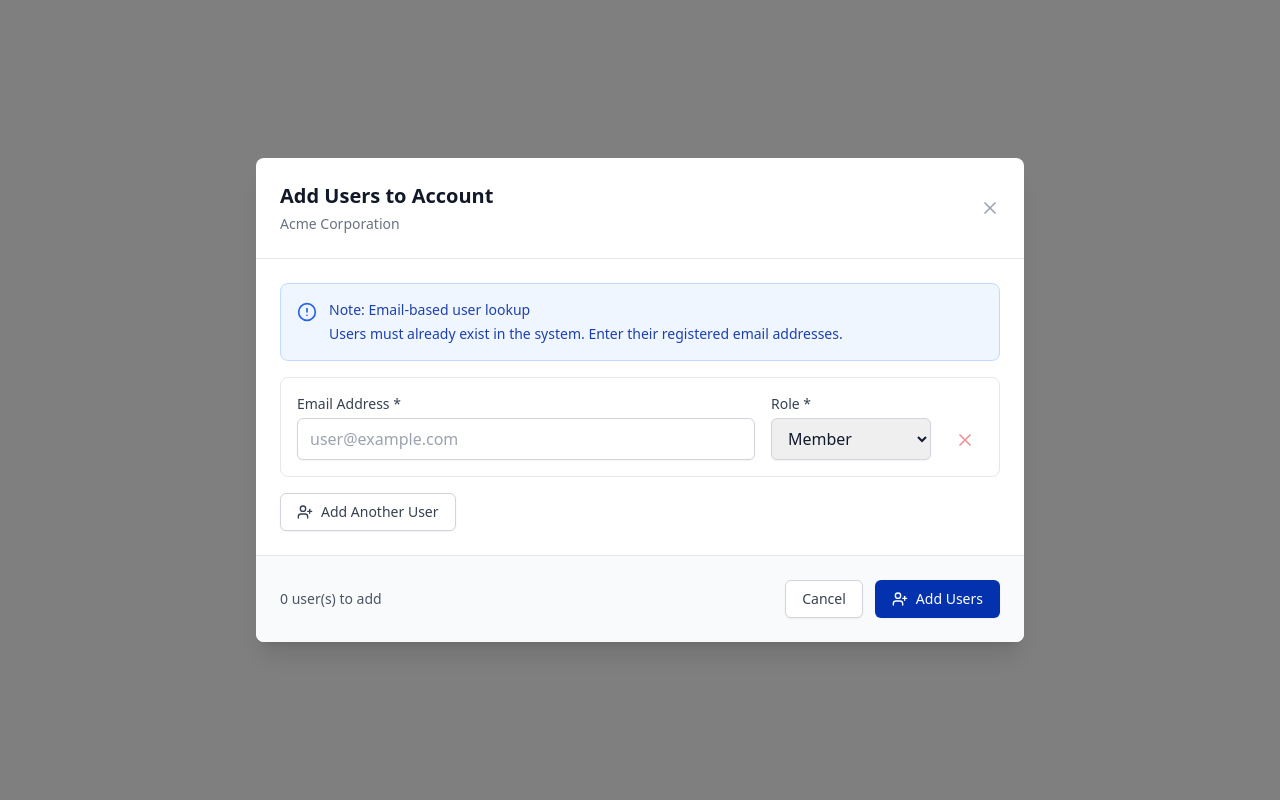
it: BulkAddUsersModal › should remove user row when remove button clicked
// Add a second row
Click the button "Add Another User" at (368, 512), box [280,493,456,531]
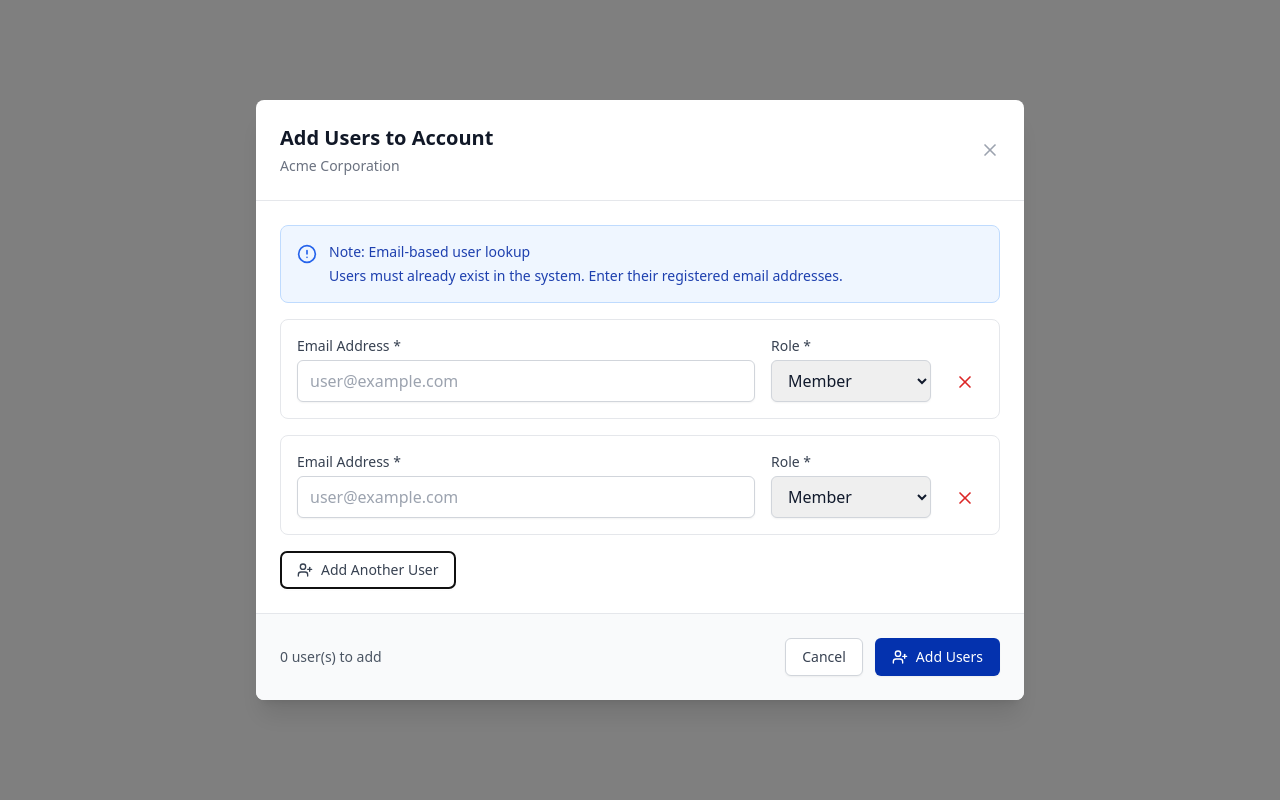
Expected: the number of fields with placeholder "user@example.com" is 2, [297,360,755,402]; [297,476,755,518]
// Remove the second row
Click the 2nd button titled "Remove user" at (965, 498), box [947,480,983,516]
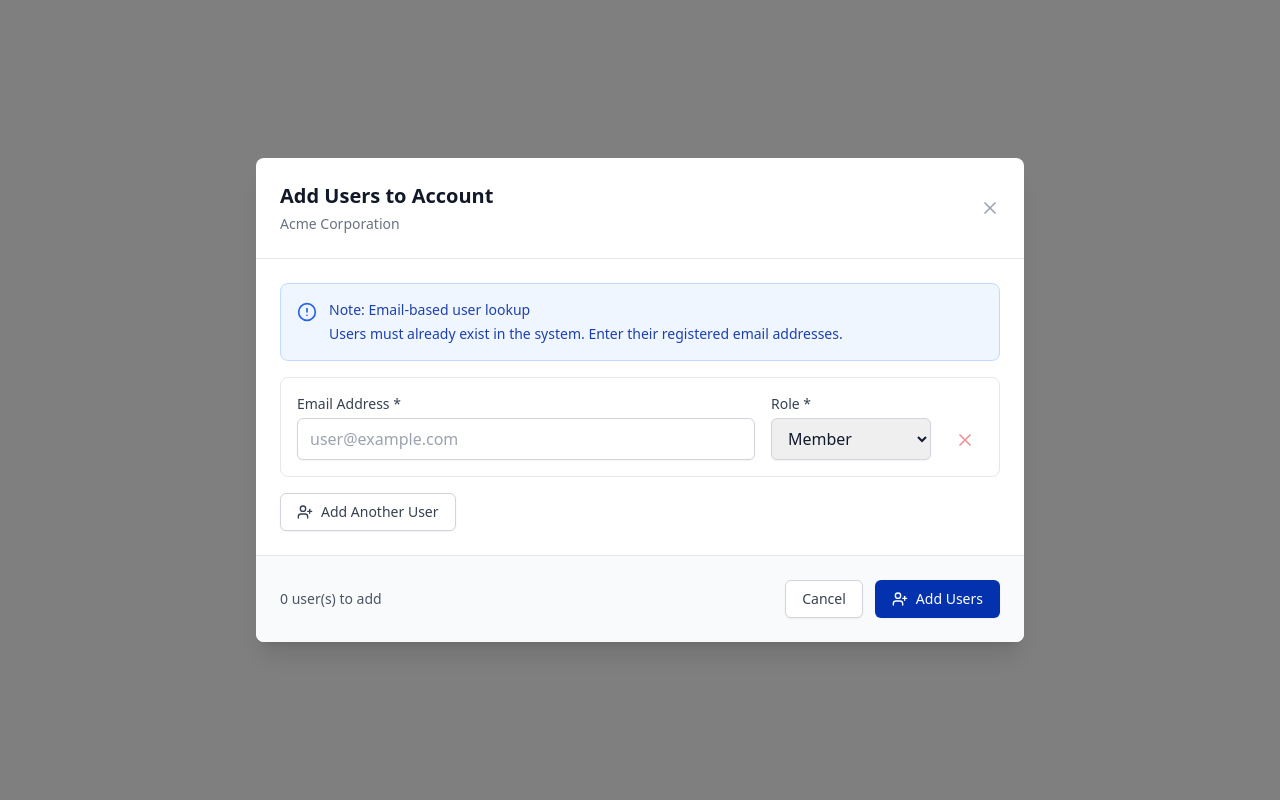
Expected: the number of fields with placeholder "user@example.com" is 1, [297,418,755,460]
